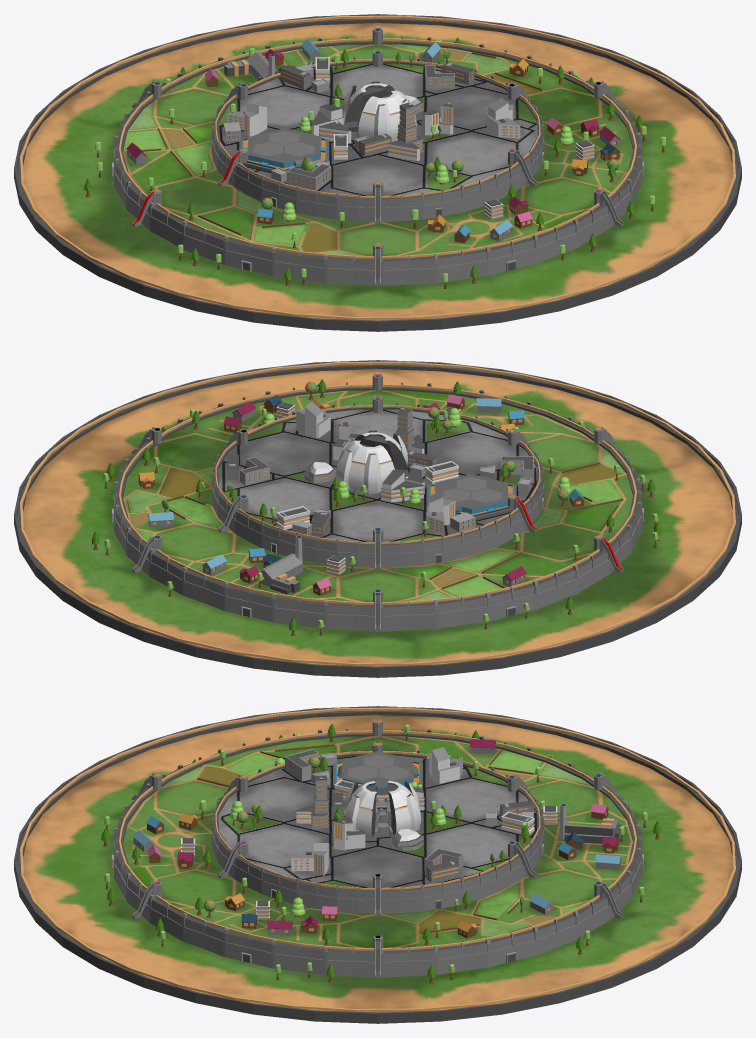
File: city 1.fbx
3 renders of one model, top to bottom at view 1: azimuth 30°, elevation 25°; view 2: azimuth 150°, elevation 25°; view 3: azimuth 270°, elevation 25°, orthographic.
Parts seen in each view (by area): view 1: disc3, disc2, disc1, platform; view 2: disc3, disc2, disc1, platform; view 3: disc3, disc2, disc1, platform.
Boxes of the visible parts, x1,y1,x2,y2 form: disc3: (14,14,741,331); disc2: (112,27,643,285); disc1: (211,49,544,224); platform: (239,128,329,172); disc3: (14,360,741,677); disc2: (112,373,643,631); disc1: (211,395,544,570); platform: (426,474,516,520); disc3: (14,706,741,1023); disc2: (112,719,643,977); disc1: (211,741,544,916); platform: (333,751,422,790).
Size of the model in its own units: 7.34 by 1.04 by 7.34.
